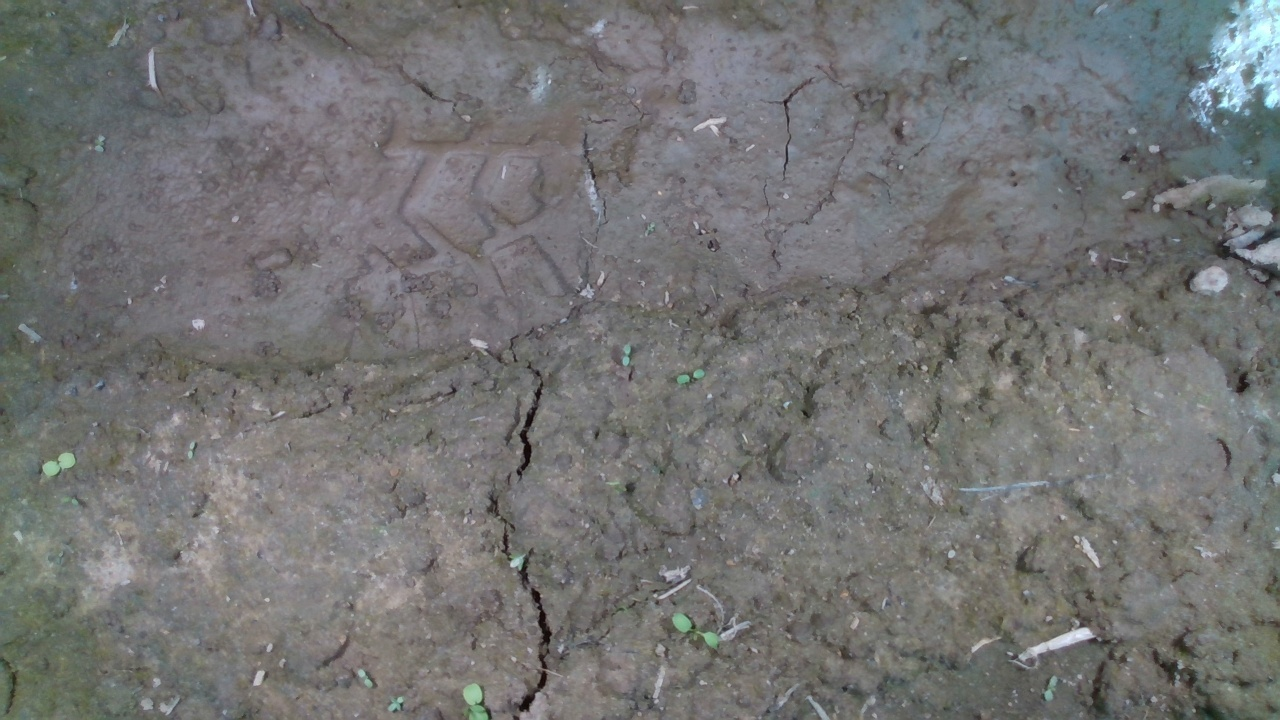weed: (668, 361, 720, 385), (175, 431, 209, 465), (614, 339, 634, 367)
